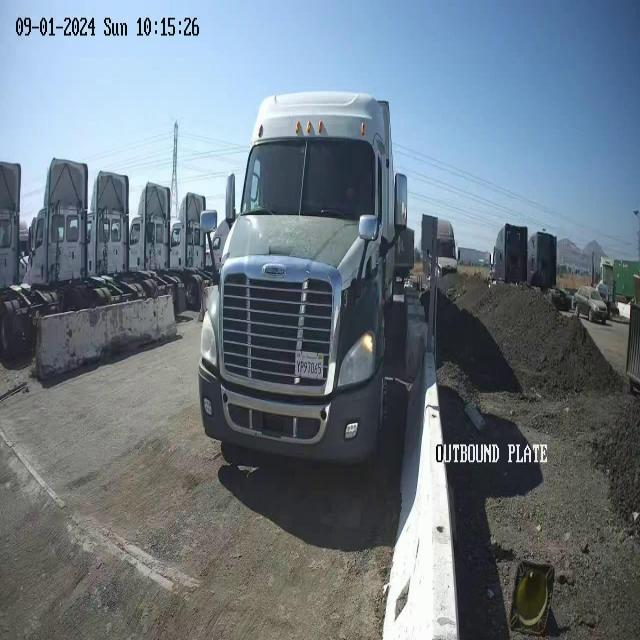TRUCK_CONTAINER: (197, 90, 410, 473)
